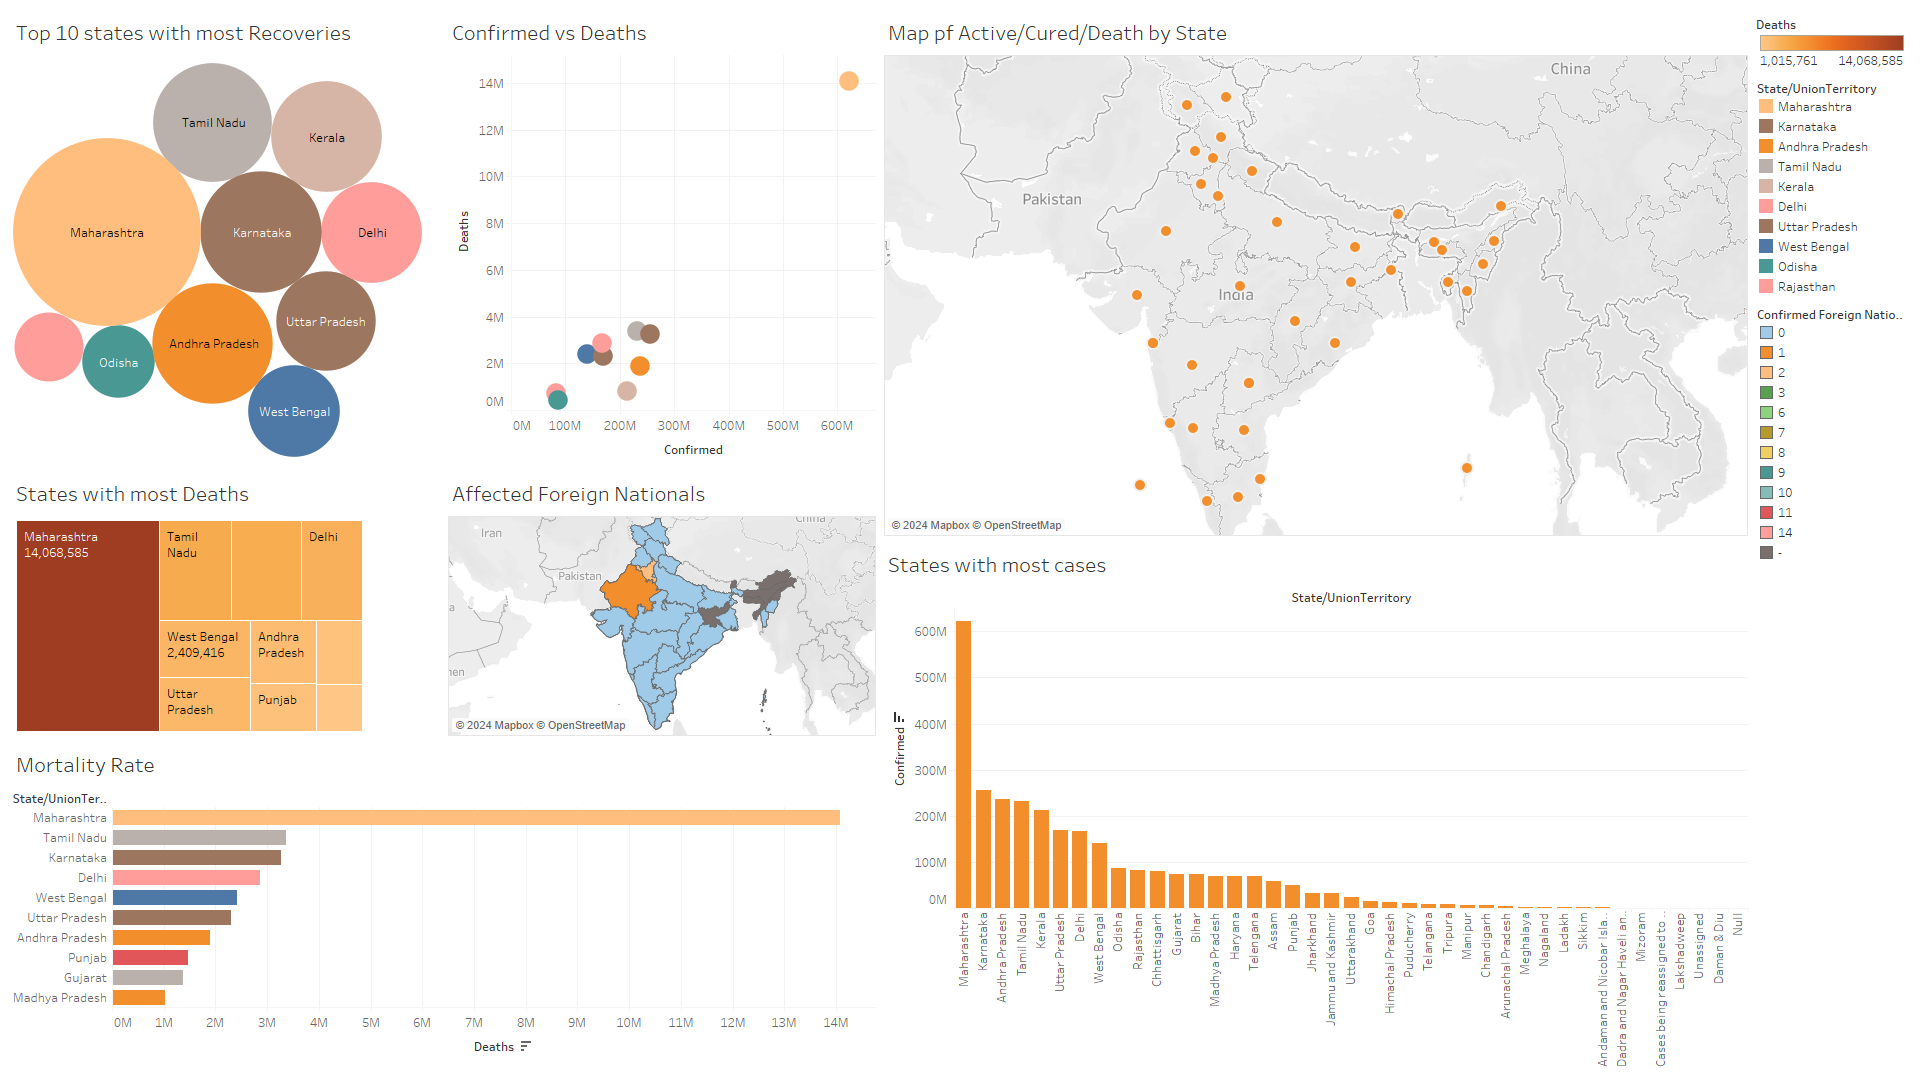

The dashboard page shown, as its layout file describes it:
{"tool":"tableau","page":{"name":"Dashboard 1","canvas":[1920,1080],"ordinal":0},"visuals":[{"type":"worksheet","title":"Top 10 states with most Recoveries","mark":"Circle","box":[8,8,436,461]},{"type":"worksheet","title":"Confirmed vs Deaths","mark":"Automatic","rows":["Deaths"],"cols":["Confirmed"],"box":[444,8,436,461]},{"type":"worksheet","title":"Map","mark":"Automatic","box":[880,8,872,532]},{"type":"legend","title":"States with most Deaths","param":"[federated.0gv02pe12kaddu186pw6r15xx1v1].[sum:Deaths:qk]","box":[1752,8,160,65]},{"type":"legend","title":"Top 10 states with most Recoveries","param":"[federated.0gv02pe12kaddu186pw6r15xx1v1].[none:State/UnionTerritory:nk]","box":[1752,73,160,226]},{"type":"legend","title":"Affected Foreign Nationals","param":"[federated.0gv02pe12kaddu186pw6r15xx1v1].[none:ConfirmedForeignNational:nk]","box":[1752,299,160,266]},{"type":"worksheet","title":"States with most Deaths","mark":"Automatic","box":[8,469,436,271]},{"type":"worksheet","title":"Affected Foreign Nationals","mark":"Multipolygon","box":[444,469,436,271]},{"type":"worksheet","title":"States with most cases","mark":"Automatic","rows":["Confirmed"],"cols":["State/UnionTerritory"],"box":[880,540,872,532]},{"type":"worksheet","title":"Mortality Rate","mark":"Automatic","rows":["State/UnionTerritory"],"cols":["Deaths"],"box":[8,740,872,332]}]}

Visuals, with their boxes in screenshot pixels (x1, y1, x2, y2), scaled from the page's 1920x1080 canvas onto the 1920x1080 screenshot:
"Top 10 states with most Recoveries" worksheet (Circle marks): 8, 8, 444, 469
"Confirmed vs Deaths" worksheet: 444, 8, 880, 469
"Map" worksheet: 880, 8, 1752, 540
"States with most Deaths" legend: 1752, 8, 1912, 73
"Top 10 states with most Recoveries" legend: 1752, 73, 1912, 299
"Affected Foreign Nationals" legend: 1752, 299, 1912, 565
"States with most Deaths" worksheet: 8, 469, 444, 740
"Affected Foreign Nationals" worksheet (Multipolygon marks): 444, 469, 880, 740
"States with most cases" worksheet: 880, 540, 1752, 1072
"Mortality Rate" worksheet: 8, 740, 880, 1072
